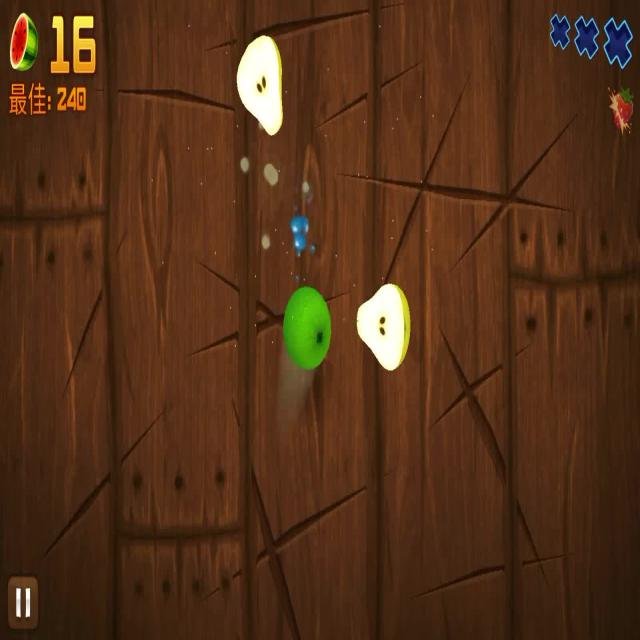fruit: (350, 277, 411, 373), (236, 34, 290, 138), (282, 286, 331, 372)
